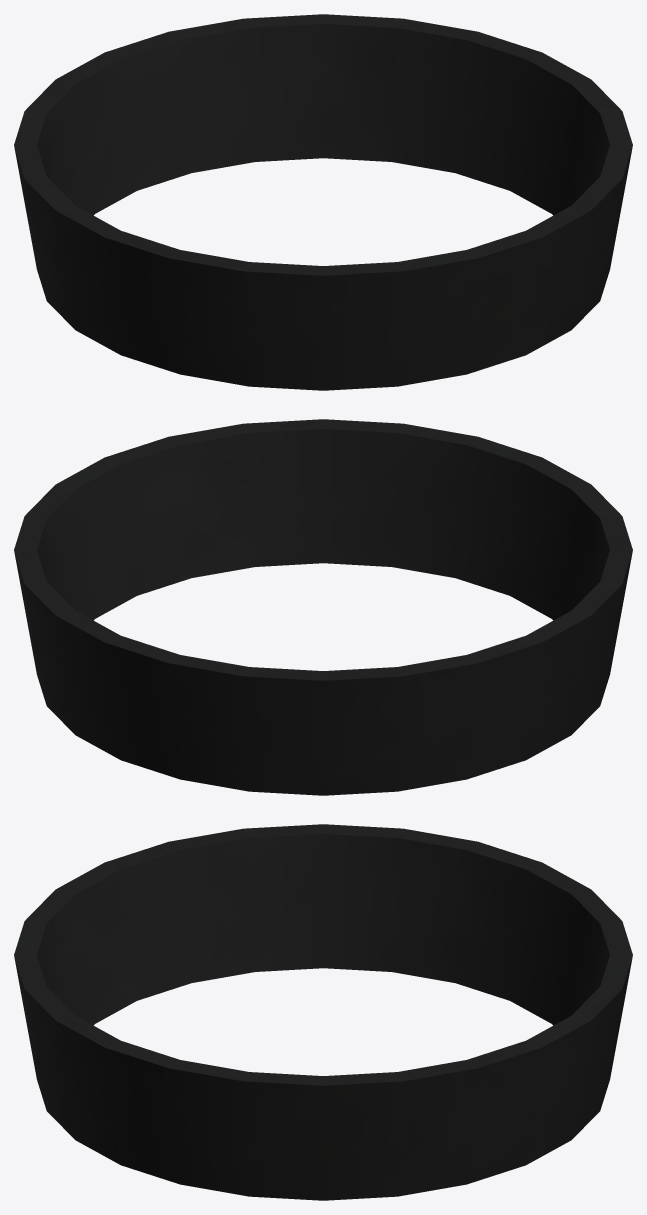
Rendered from 1f_antenna_s0_1_collar.obj.
3 renders of one model, top to bottom at view 1: azimuth 30°, elevation 25°; view 2: azimuth 150°, elevation 25°; view 3: azimuth 270°, elevation 25°, orthographic.
Parts seen in each view (by area): view 1: mesh1; view 2: mesh1; view 3: mesh1.
Boxes of the visible parts, x1=… form: mesh1: x1=14, y1=14, x2=632, y2=390; mesh1: x1=14, y1=419, x2=632, y2=795; mesh1: x1=14, y1=824, x2=632, y2=1200.
Bounding box in the file's own units: 0.675 × 0.15 × 0.675.
